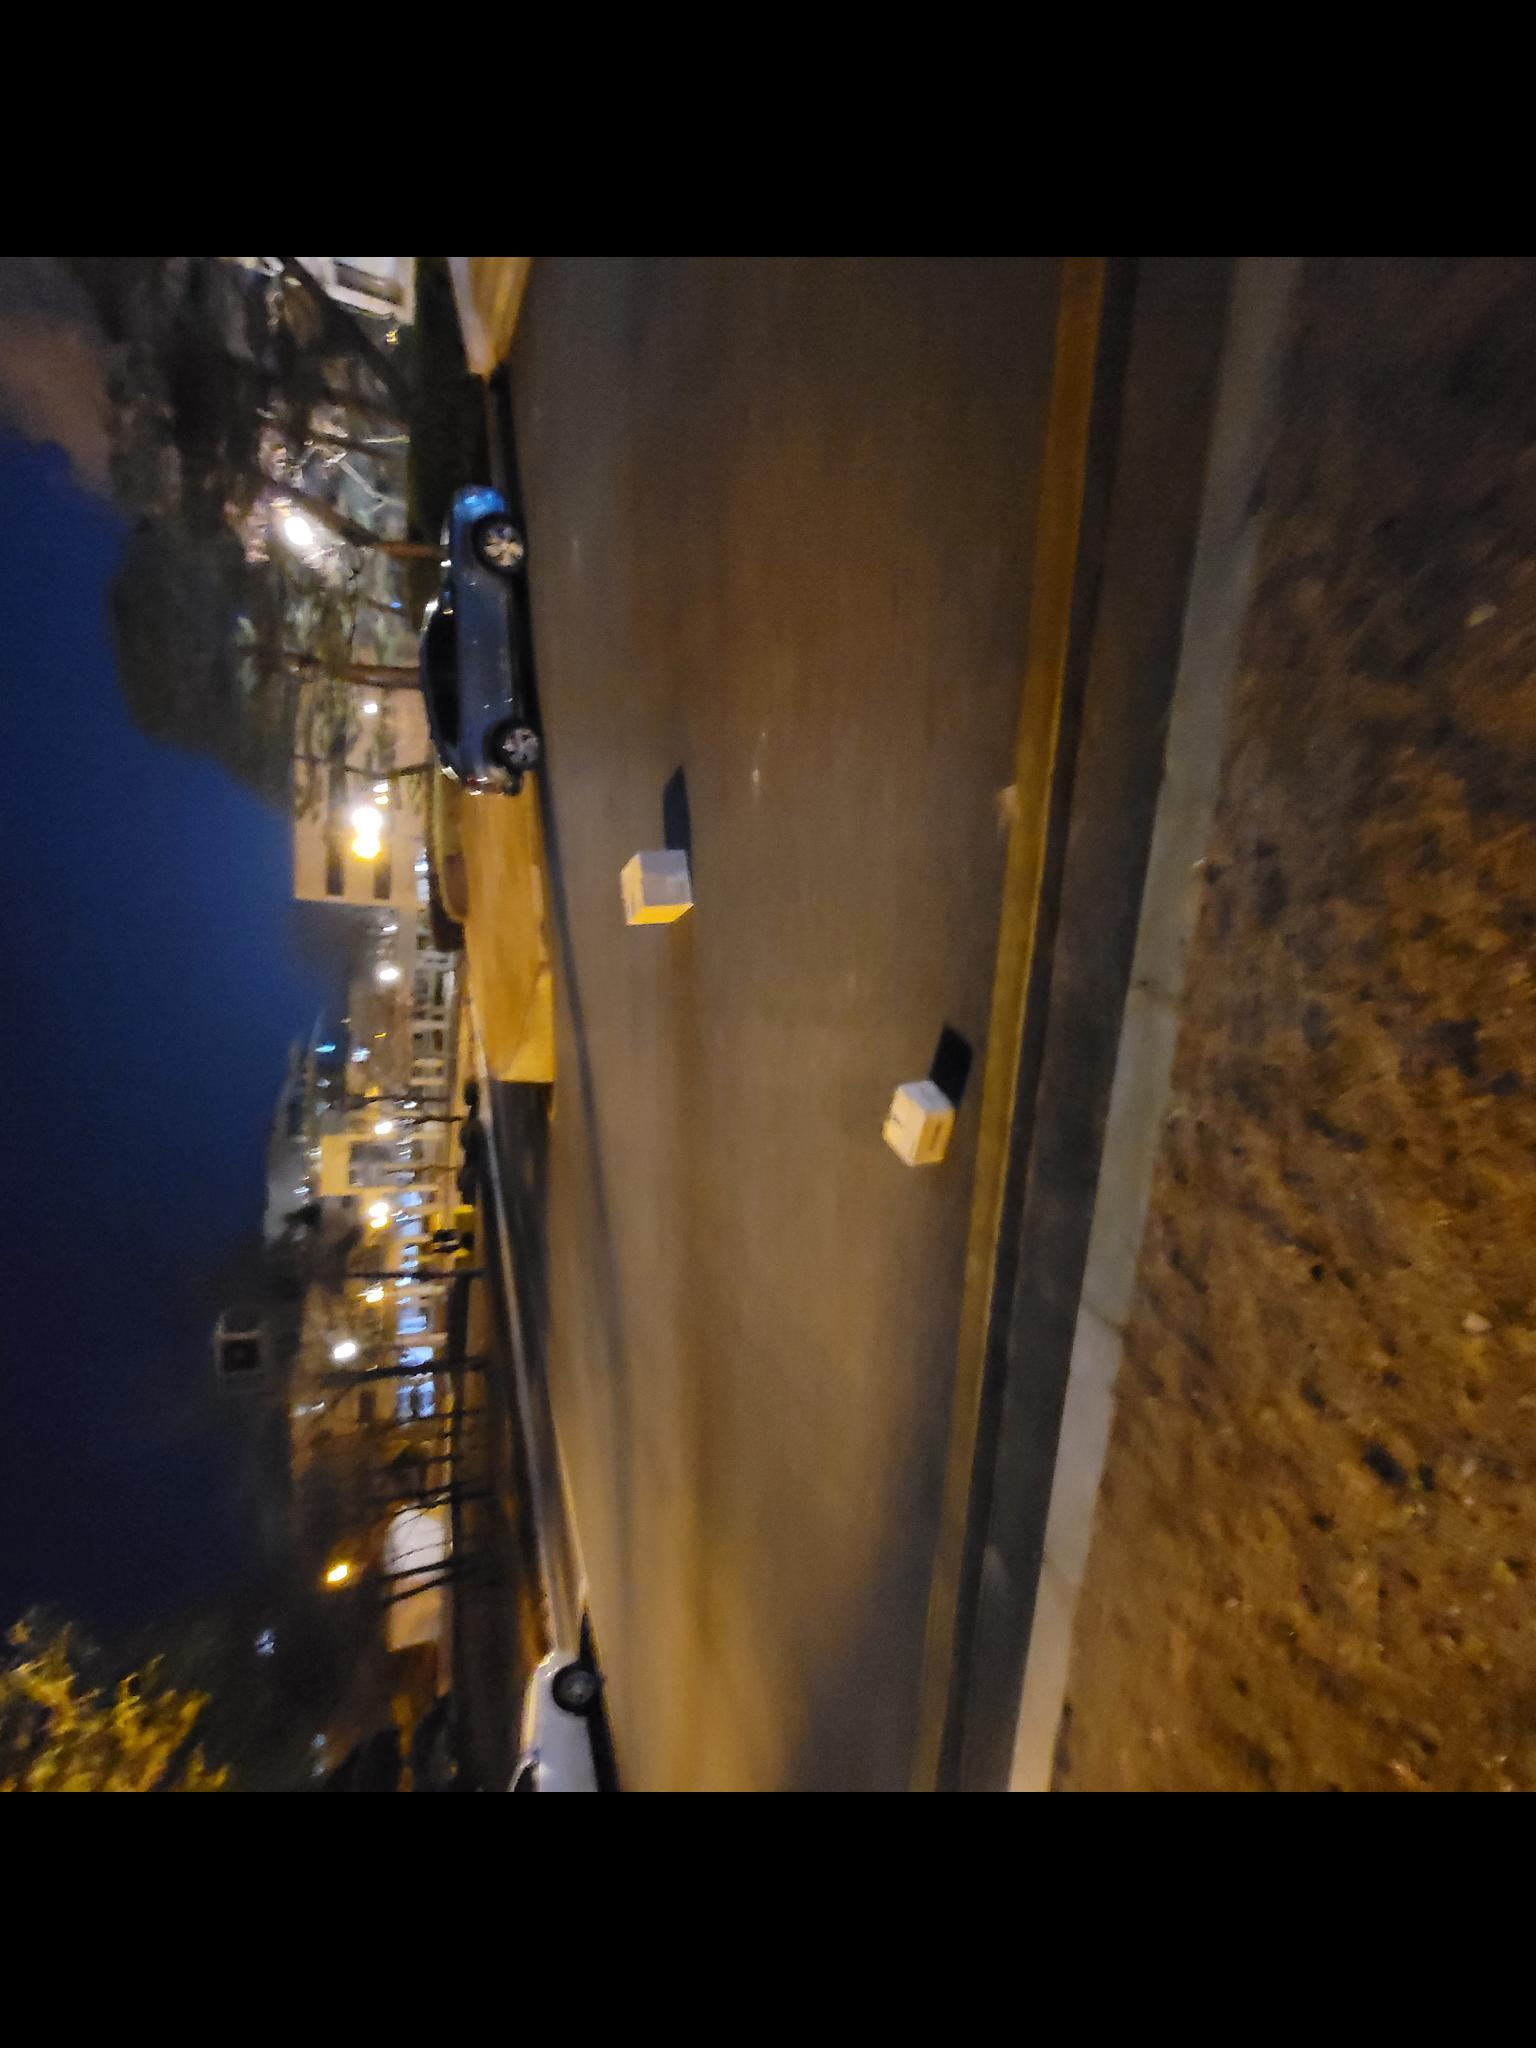Box: (865, 1072, 965, 1174), (610, 837, 703, 929)
